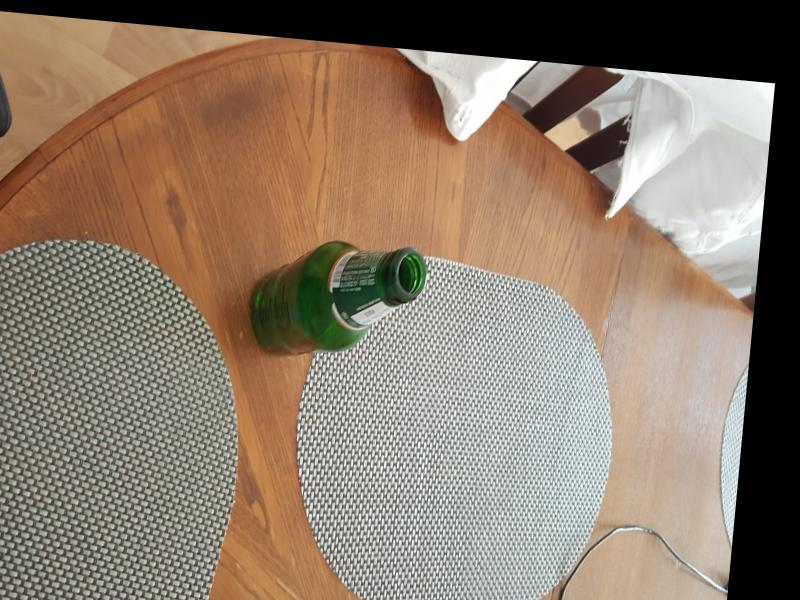Beer: (243, 233, 428, 365)
